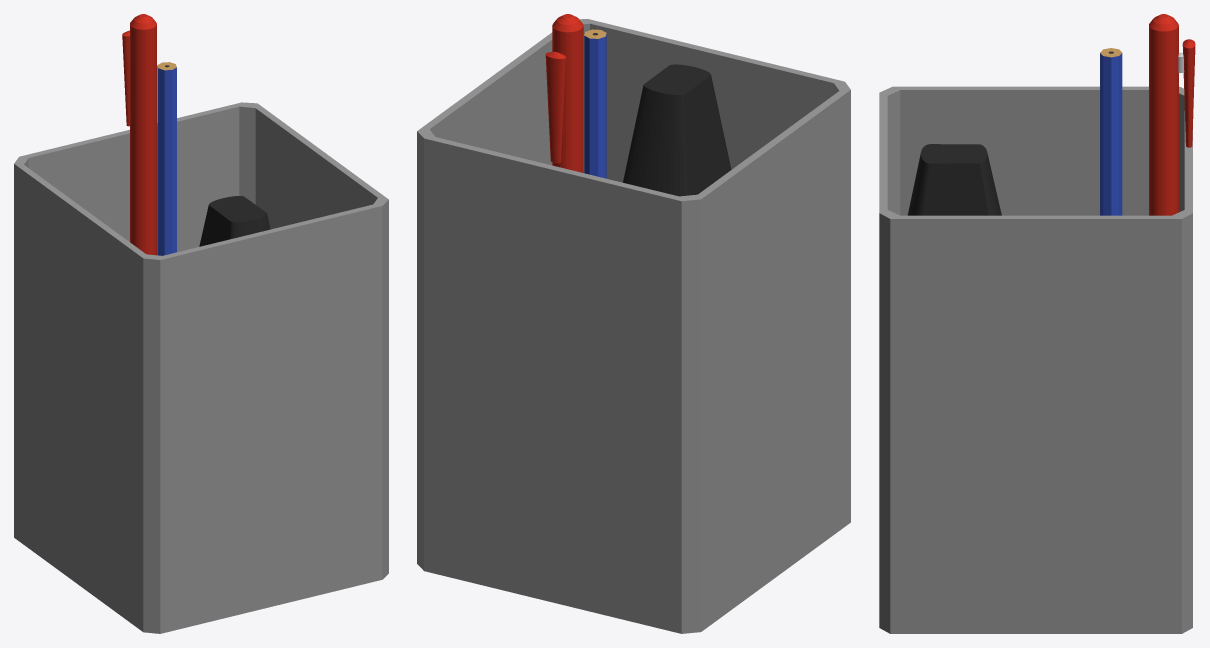
Rendered from penContainer.fbx.
3 renders of one model, left to right at view 1: azimuth 30°, elevation 25°; view 2: azimuth 150°, elevation 25°; view 3: azimuth 270°, elevation 25°, orthographic. The views are drawn at different scales.
Visible parts, largest first — view 1: Con tainer, Pen, Pencil, Marker; view 2: Con tainer, Marker, Pen, Pencil; view 3: Con tainer, Pen, Marker, Pencil.
Part boxes in pixels (x1,y1,x2,y2): Con tainer: (14,102,388,633); Pen: (122,14,156,255); Pencil: (157,62,176,255); Marker: (199,196,270,246); Con tainer: (417,19,850,633); Marker: (623,64,731,196); Pen: (545,14,583,172); Pencil: (584,29,606,178); Con tainer: (879,86,1192,633); Pen: (1149,14,1195,215); Marker: (907,144,1001,215); Pencil: (1100,48,1122,215).
Size of the model in its own units: 200 by 389 by 202.
